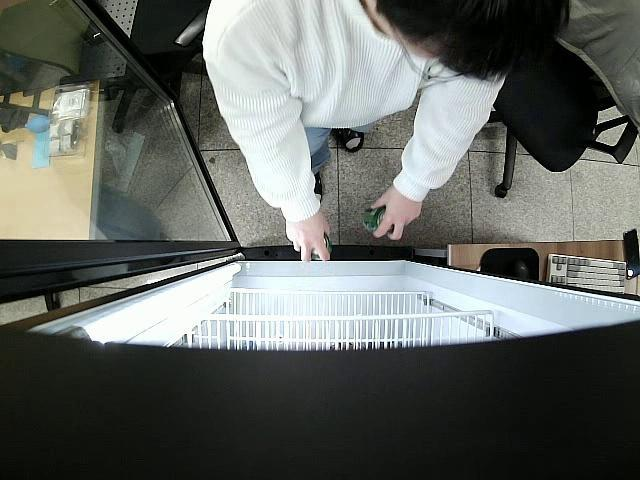12_chilsungCider: (362, 206, 394, 234), (312, 234, 332, 262)
